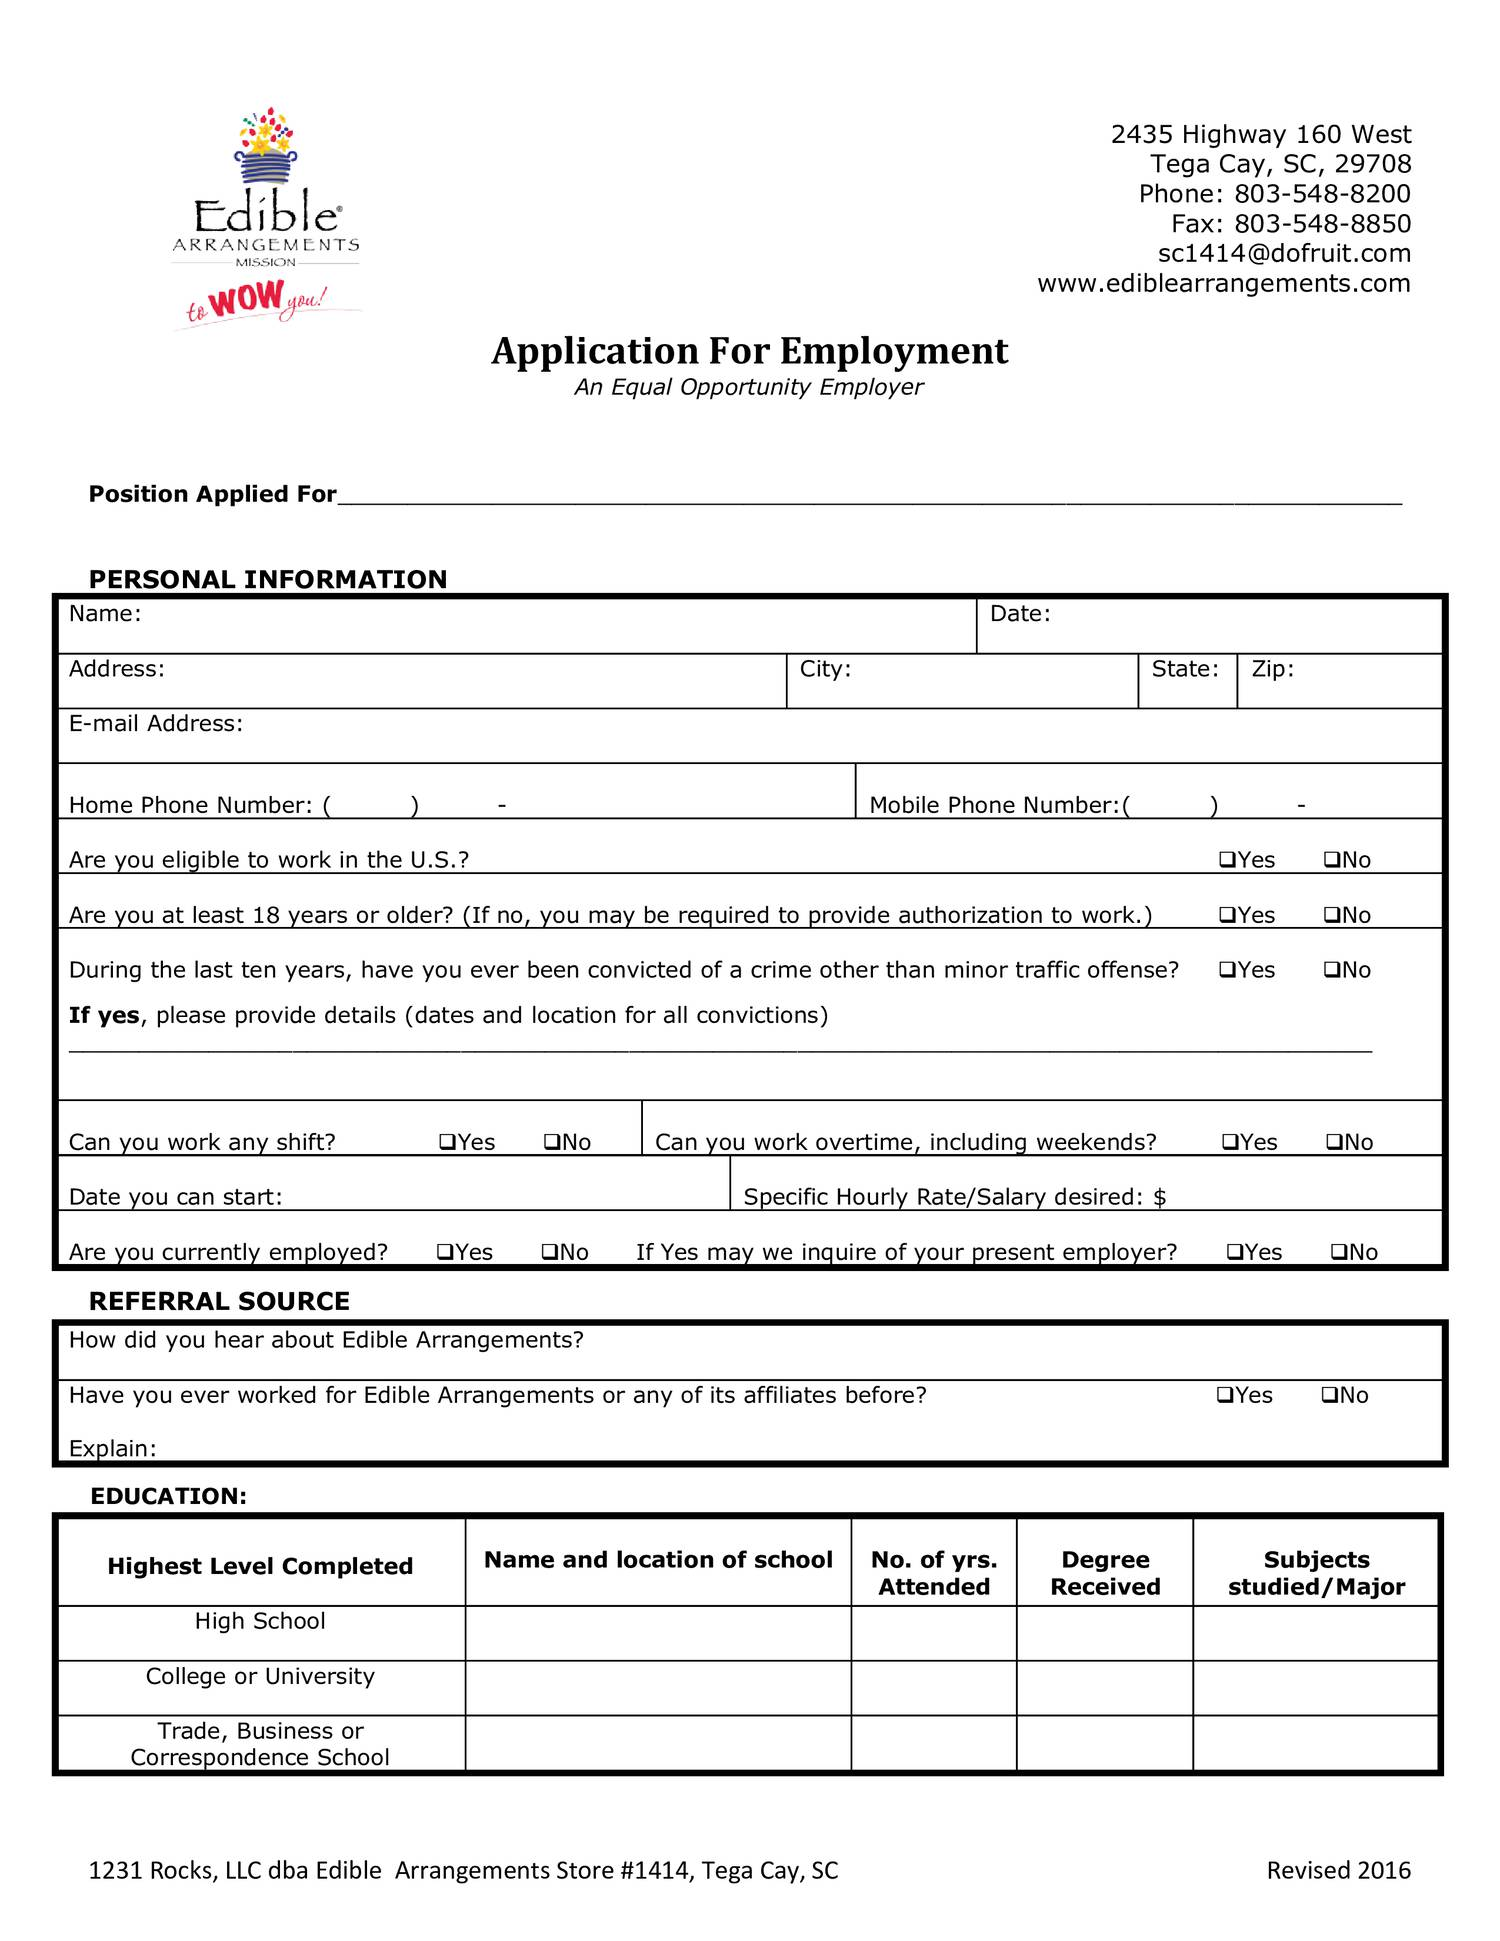table: (54, 592, 1451, 1267), (54, 1514, 1439, 1776), (54, 1325, 1446, 1457)
